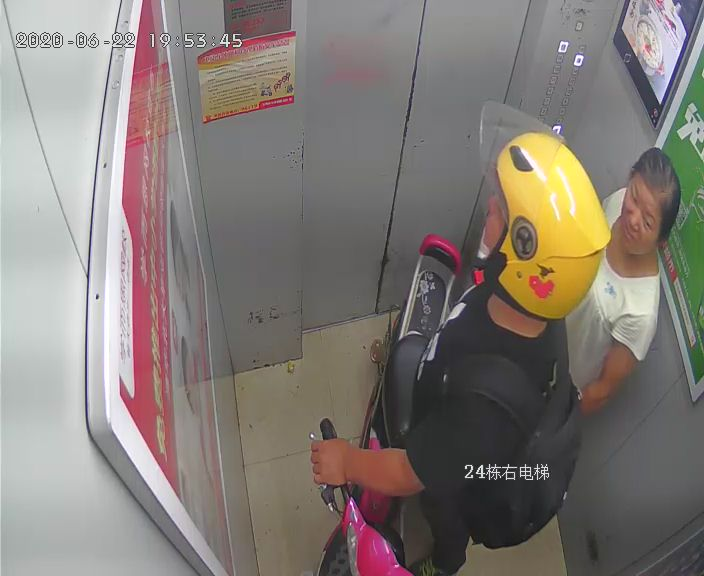Electric-bicycle: (308, 233, 459, 576)
